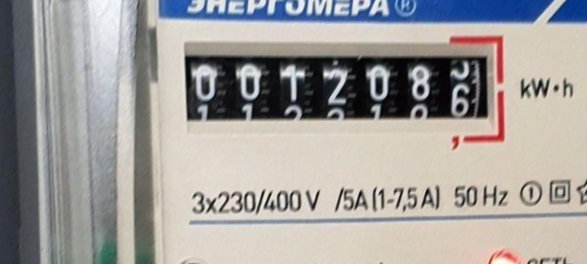0: (234, 59, 264, 102), (191, 59, 217, 102), (365, 61, 390, 101)
1: (279, 60, 303, 102)
2: (322, 65, 349, 105)
6: (445, 80, 471, 117)
8: (407, 61, 431, 102)
screen: (173, 14, 517, 167)
